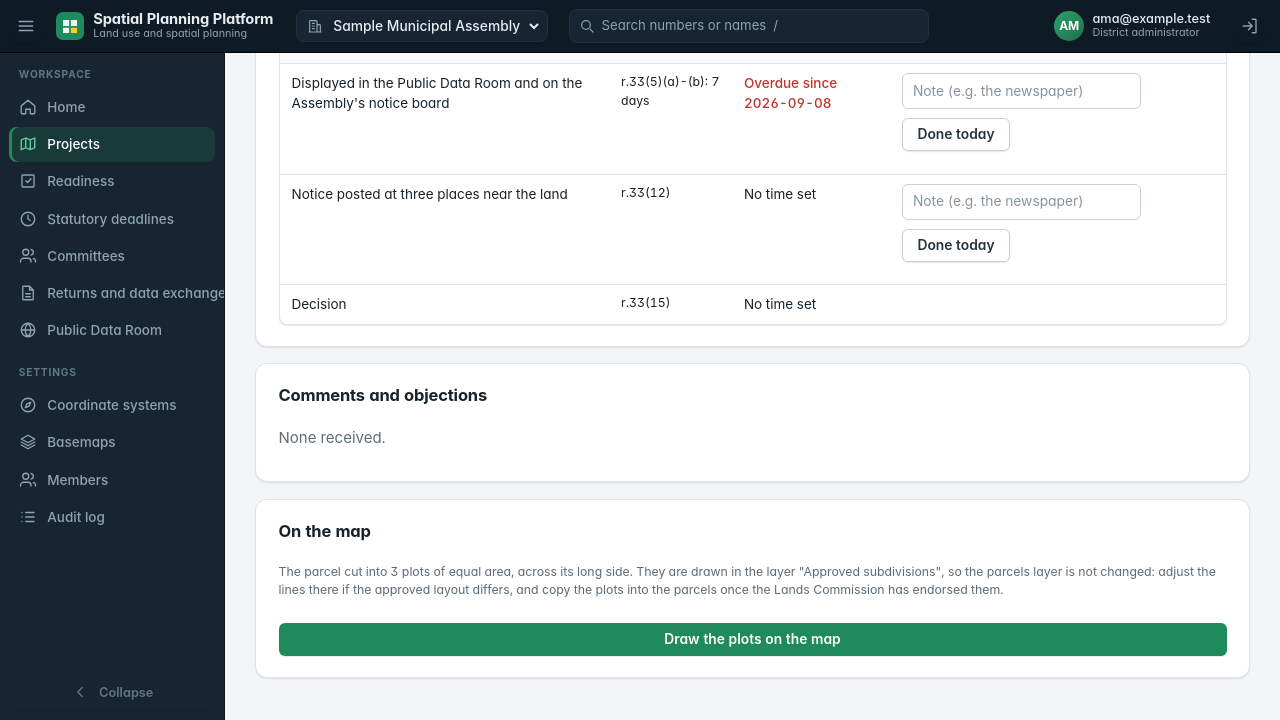
Test: re-zoning, change of use and subdivision › draws an approved subdivision's plots on the map
(page scrolled)
expect the element named "Plots on the map" shows "cut into 3 plots of equal area": met, box 278,564 -> 633,578
Click the button "Draw the plots on the map". click: (752, 639)
box: 278,623 -> 1226,656
(page scrolled)
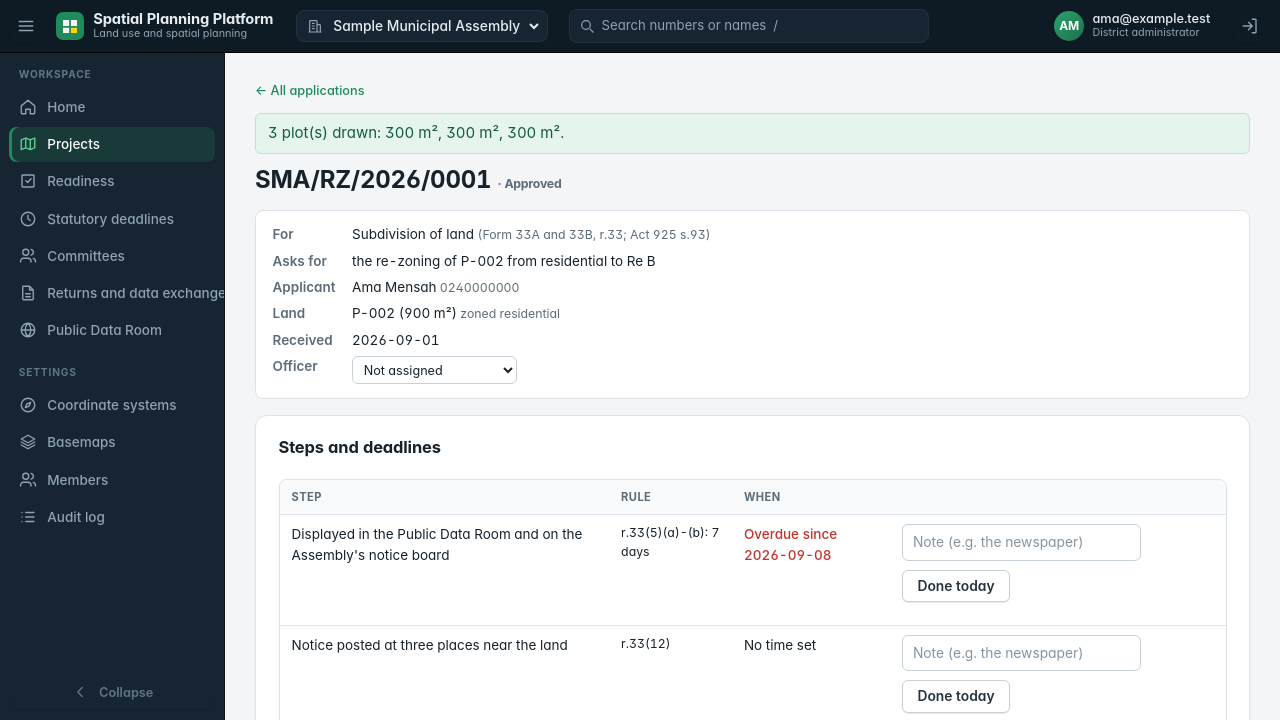
expect the message reads "3 plot(s) drawn: 300 m², 300 m², 300 m².": met, box 268,123 -> 564,142
